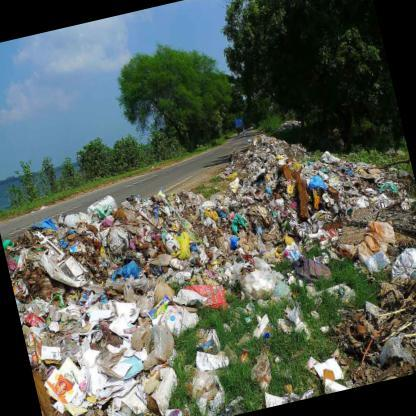Garbage: (63, 187, 146, 268), (157, 262, 230, 354), (42, 344, 119, 415), (235, 295, 316, 349), (132, 311, 196, 377), (174, 353, 236, 412), (46, 217, 108, 274), (236, 262, 293, 310), (106, 232, 144, 287), (188, 214, 230, 262), (171, 198, 207, 252), (142, 214, 178, 260), (220, 204, 248, 240), (310, 170, 336, 198)
